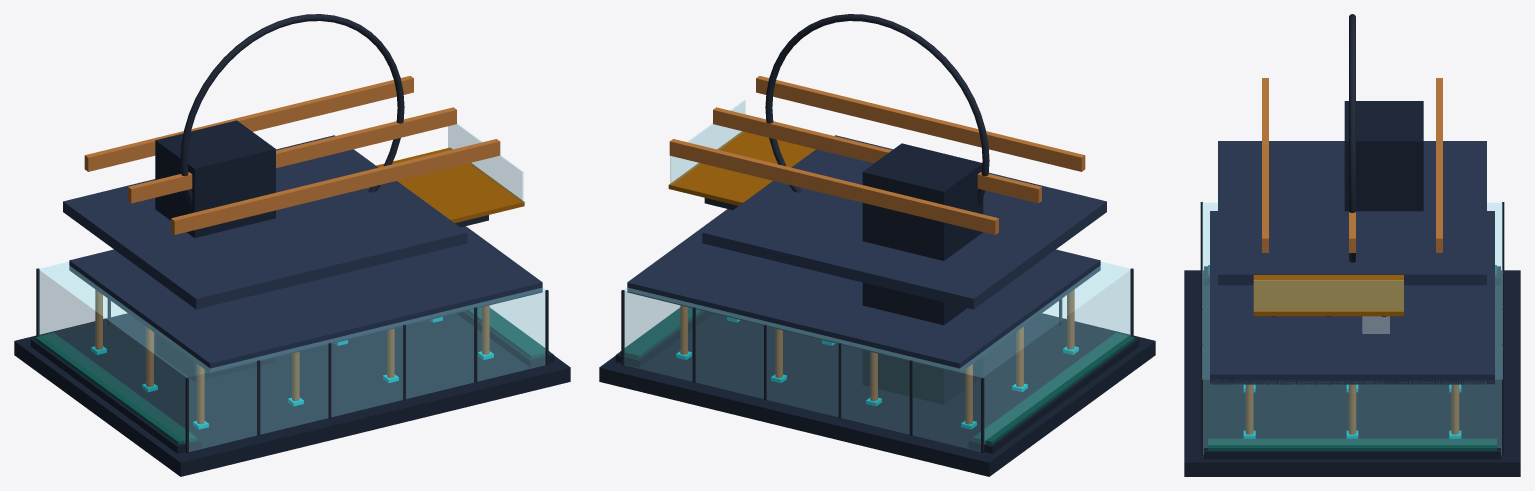
The model's file is sample-architecture.glb.
3 views of the same model, side by side, from view 1: azimuth 30°, elevation 25°; view 2: azimuth 150°, elevation 25°; view 3: azimuth 270°, elevation 25° (orthographic).
Visible parts, largest first — view 1: CurtainWall_GroundAtrium, Foundation_Plinth, Gallery_Slab_L3, TimberSlab_Level2, Nordic_Horizon_BIM_Assembly, Elevator_Shear_Core, Cantilever_Observation_Deck, Photovoltaic_CanopyRing; view 2: CurtainWall_GroundAtrium, Foundation_Plinth, Nordic_Horizon_BIM_Assembly, TimberSlab_Level2, Gallery_Slab_L3, Elevator_Shear_Core, Cantilever_Observation_Deck, Photovoltaic_CanopyRing; view 3: Gallery_Slab_L3, Foundation_Plinth, TimberSlab_Level2, CurtainWall_GroundAtrium, Nordic_Horizon_BIM_Assembly, Elevator_Shear_Core, Cantilever_Observation_Deck, Photovoltaic_CanopyRing, HVAC_Ventilation_Trunk_Clash, GlulamColumn_Grid_9, GlulamColumn_Grid_11, GlulamColumn_Grid_10.
Boxes of the visible parts, box(x1,y1,x2,y2) form: CurtainWall_GroundAtrium: box(38, 262, 545, 451); Foundation_Plinth: box(14, 313, 570, 476); Gallery_Slab_L3: box(63, 135, 467, 309); TimberSlab_Level2: box(69, 226, 542, 373); Nordic_Horizon_BIM_Assembly: box(30, 76, 554, 453); Elevator_Shear_Core: box(155, 120, 275, 381); Cantilever_Observation_Deck: box(376, 147, 524, 222); Photovoltaic_CanopyRing: box(180, 14, 404, 206); CurtainWall_GroundAtrium: box(624, 262, 1131, 451); Foundation_Plinth: box(599, 313, 1155, 476); Nordic_Horizon_BIM_Assembly: box(615, 76, 1139, 453); TimberSlab_Level2: box(627, 209, 1100, 373); Gallery_Slab_L3: box(702, 135, 1106, 309); Elevator_Shear_Core: box(862, 143, 983, 404); Cantilever_Observation_Deck: box(668, 131, 815, 205); Photovoltaic_CanopyRing: box(765, 14, 989, 206); Gallery_Slab_L3: box(1218, 141, 1486, 285); Foundation_Plinth: box(1184, 270, 1520, 476); TimberSlab_Level2: box(1210, 211, 1494, 384); CurtainWall_GroundAtrium: box(1202, 203, 1502, 454); Nordic_Horizon_BIM_Assembly: box(1200, 78, 1504, 459); Elevator_Shear_Core: box(1344, 101, 1423, 211); Cantilever_Observation_Deck: box(1253, 275, 1403, 316); Photovoltaic_CanopyRing: box(1349, 14, 1355, 262); HVAC_Ventilation_Trunk_Clash: box(1362, 316, 1389, 333); GlulamColumn_Grid_9: box(1451, 384, 1459, 434); GlulamColumn_Grid_11: box(1245, 384, 1253, 434); GlulamColumn_Grid_10: box(1348, 384, 1356, 434).
Size of what is drawn, in the model's own units: 11.5 by 9.89 by 8.5.
